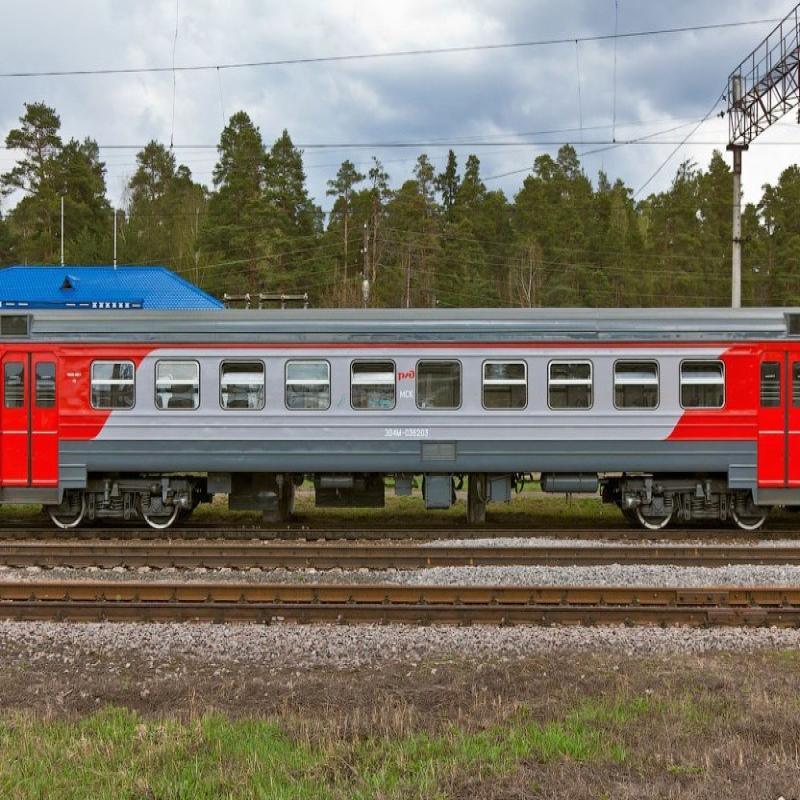train: (1, 281, 800, 565)
